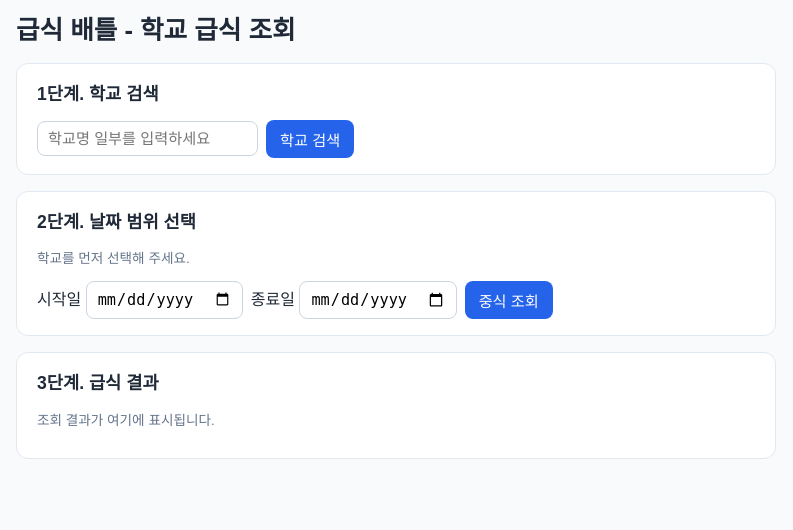
Test: 급식 배틀 앱 › 백엔드 오류 시 재시도 가능한 안내를 표시한다
Type "서울고" into the field named "학교명 검색어". click: x=148, y=139
box: [37, 121, 258, 156]
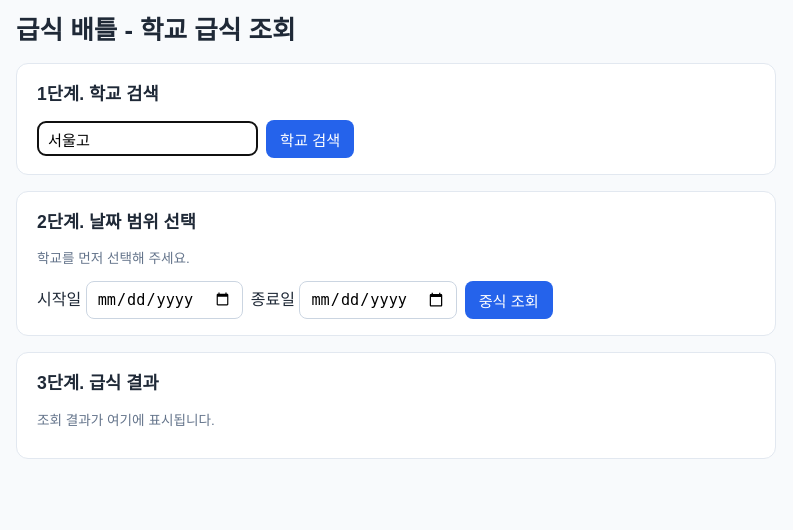
Click the button "학교 검색". click: x=310, y=139
box: [266, 120, 354, 158]
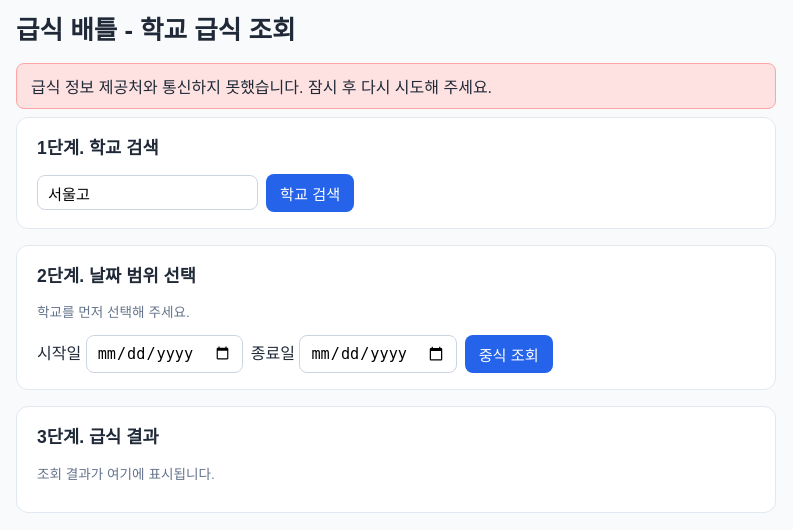
Expected: the message shows "잠시 후 다시 시도", [31, 79, 492, 96]
